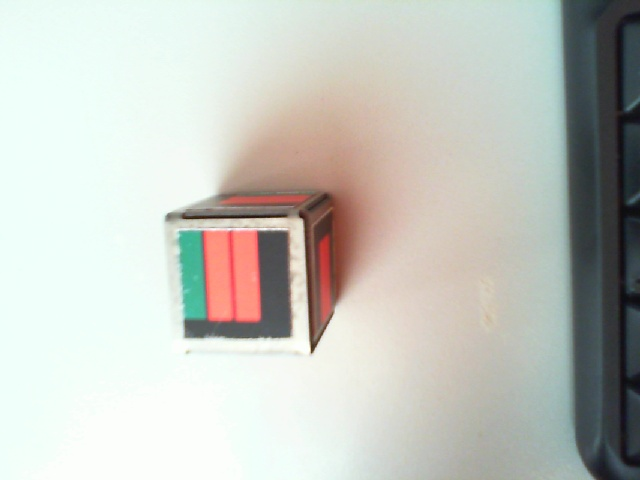square: (177, 227, 291, 339)
